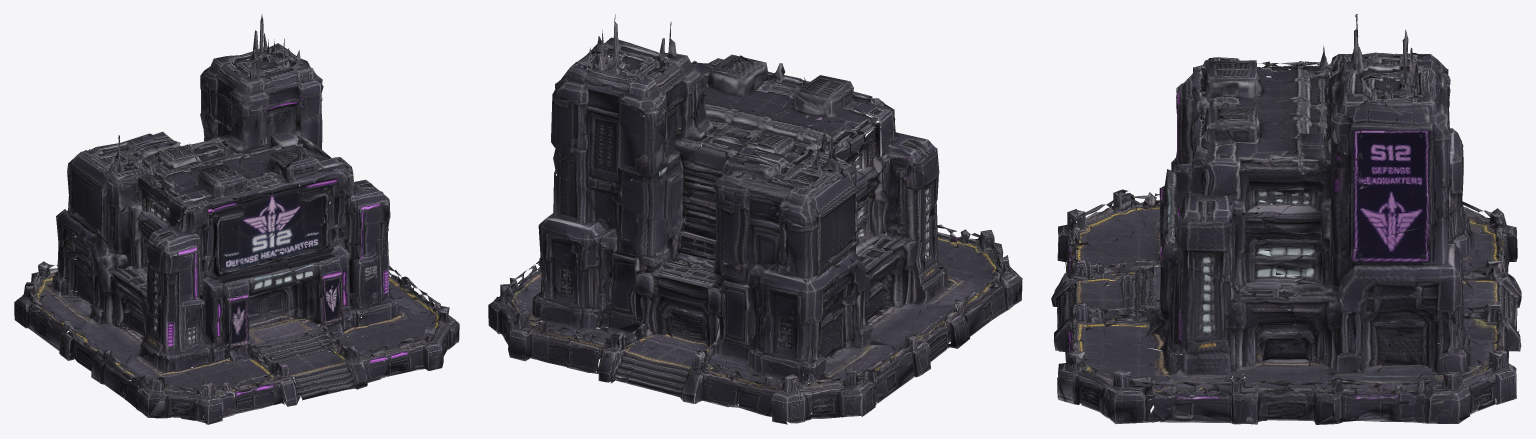
Rendered from s12DefenseHeadquarters_LOD1.glb.
The picture shows the model from 3 angles, left to right: view 1: azimuth 30°, elevation 25°; view 2: azimuth 150°, elevation 25°; view 3: azimuth 270°, elevation 25°; orthographic projection. The views are drawn at different scales.
Parts seen in each view (by area): view 1: Mesh_0.006; view 2: Mesh_0.006; view 3: Mesh_0.006.
Part boxes in pixels (box(x1,y1,x2,y2)): Mesh_0.006: box(14, 14, 459, 424); Mesh_0.006: box(488, 14, 1022, 424); Mesh_0.006: box(1051, 14, 1521, 424).
Size of the model in its own units: 1.91 by 1.53 by 1.9.
1 material, 1 textured.
